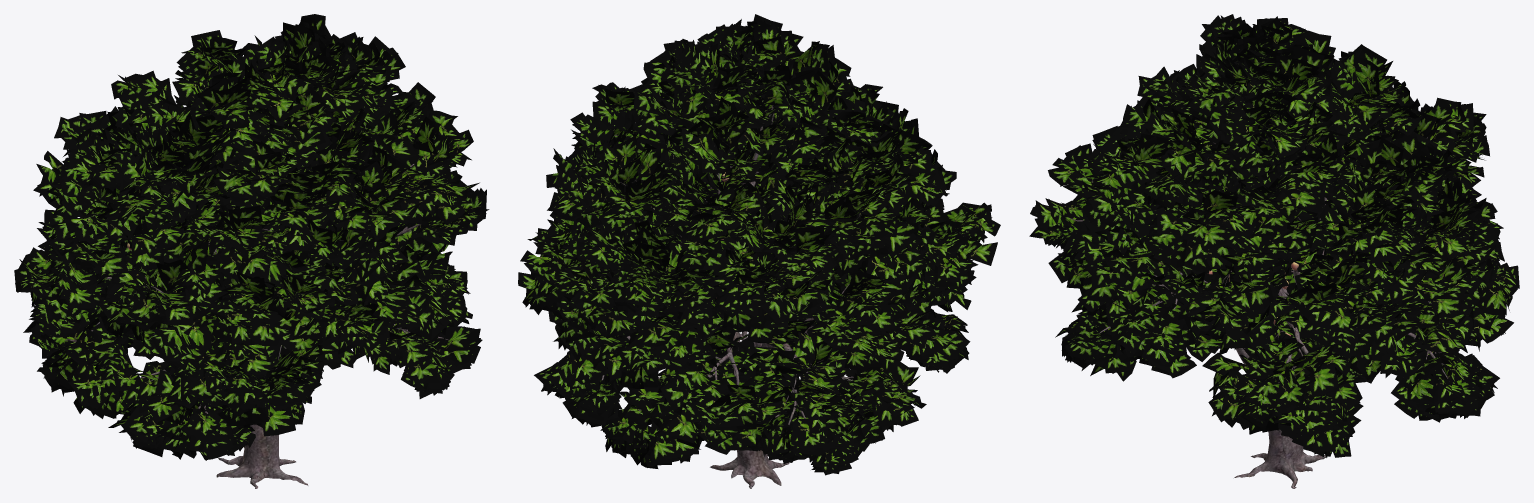
The model's file is mango_tree.glb.
3 views of the same model, side by side, from view 1: azimuth 30°, elevation 25°; view 2: azimuth 150°, elevation 25°; view 3: azimuth 270°, elevation 25° (orthographic). The views are drawn at different scales.
Visible parts, largest first — view 1: leaves_Material.001_0, tree_Material.002_0; view 2: leaves_Material.001_0, tree_Material.002_0; view 3: leaves_Material.001_0, tree_Material.002_0.
Part boxes in pixels (x1,y1,x2,y2): leaves_Material.001_0: (14, 14, 489, 460); tree_Material.002_0: (49, 66, 449, 488); leaves_Material.001_0: (518, 14, 1000, 475); tree_Material.002_0: (601, 62, 907, 488); leaves_Material.001_0: (1029, 14, 1519, 457); tree_Material.002_0: (1069, 92, 1449, 488).
Size of the model in its own units: 6.69 by 6.86 by 6.76.
3 materials, 3 textured.
